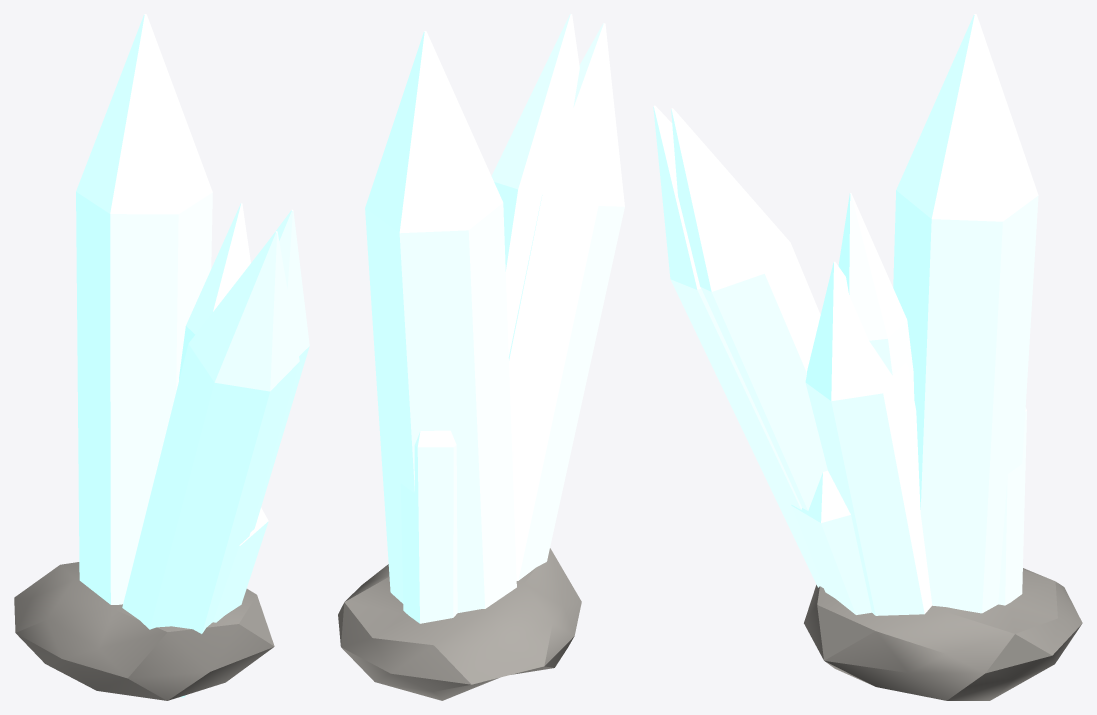
Rendered from tree_crystal.fbx.
3 views of the same model, side by side, from view 1: azimuth 30°, elevation 25°; view 2: azimuth 150°, elevation 25°; view 3: azimuth 270°, elevation 25° (orthographic). The views are drawn at different scales.
Visible parts, largest first — view 1: tree_crystal_LOD0; view 2: tree_crystal_LOD0; view 3: tree_crystal_LOD0.
Boxes of the visible parts, x1,y1,x2,y2 form: tree_crystal_LOD0: [14, 14, 309, 700]; tree_crystal_LOD0: [338, 14, 624, 700]; tree_crystal_LOD0: [653, 14, 1082, 700].
Bounding box in the file's own units: 2.43 × 7.26 × 4.22.
